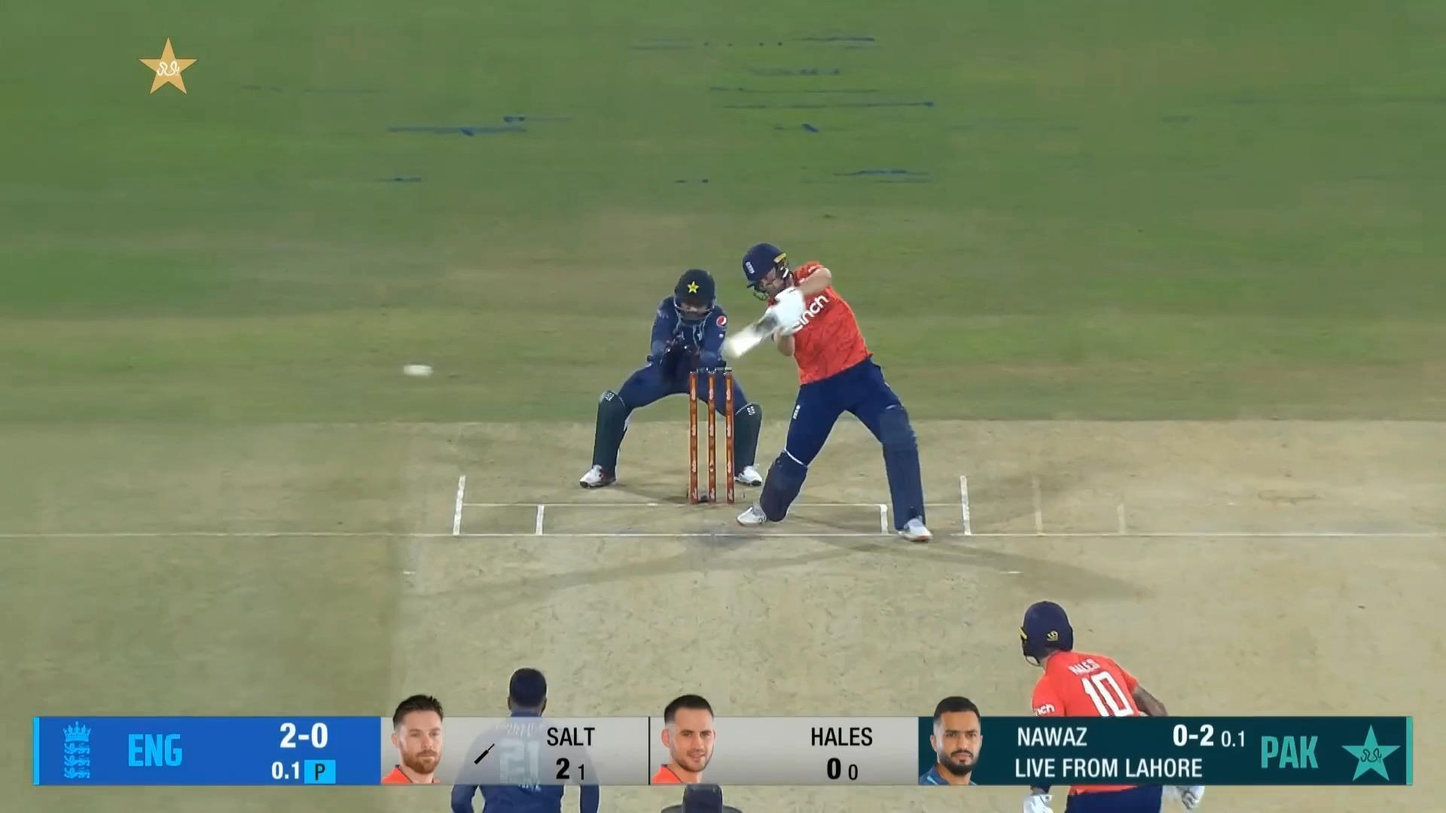BM 1: (720, 239, 933, 547)
BO: (450, 667, 600, 813)
